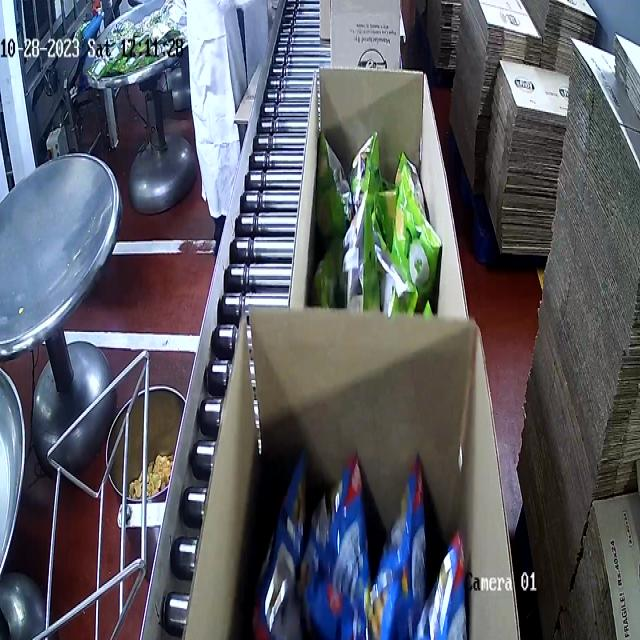PAPRIKA: (267, 445, 465, 640)
